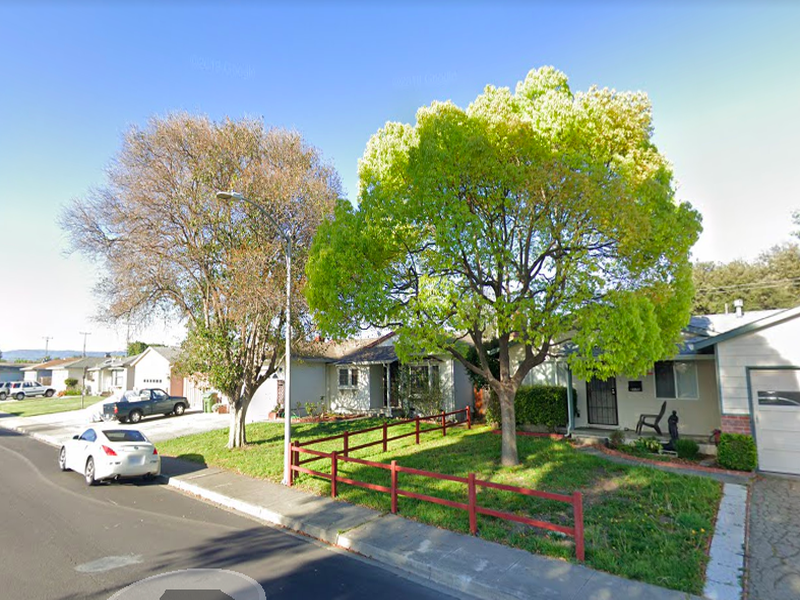tree: (303, 62, 704, 474), (55, 108, 345, 452)
